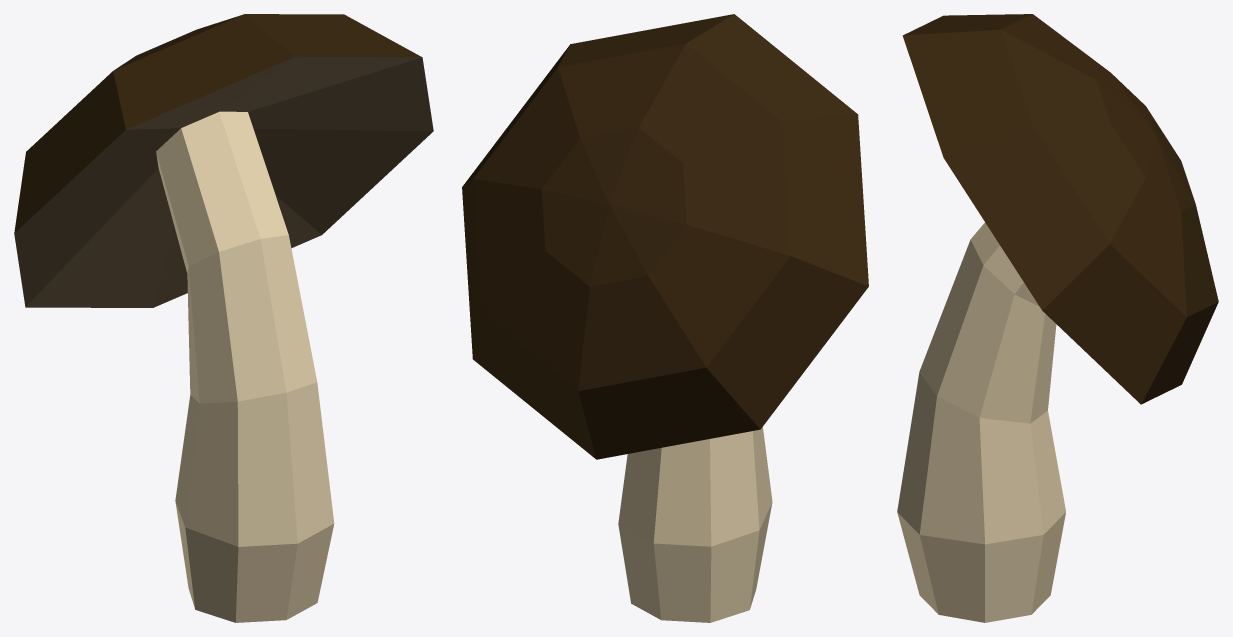
The model's file is Bent Brown Mushroom.fbx.
3 renders of one model, left to right at view 1: azimuth 30°, elevation 25°; view 2: azimuth 150°, elevation 25°; view 3: azimuth 270°, elevation 25°, orthographic. The views are drawn at different scales.
Parts seen in each view (by area): view 1: Bent Brown Mushroom; view 2: Bent Brown Mushroom; view 3: Bent Brown Mushroom.
Boxes of the visible parts, x1,y1,x2,y2 form: Bent Brown Mushroom: [14, 14, 433, 622]; Bent Brown Mushroom: [462, 14, 868, 622]; Bent Brown Mushroom: [897, 14, 1218, 622].
Bounding box in the file's own units: 79.54 × 109 × 53.77.
